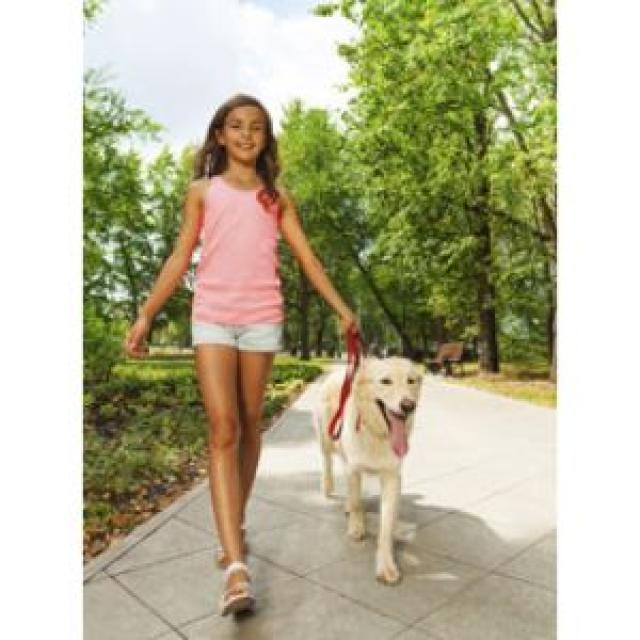nonfall: (149, 74, 314, 614)
